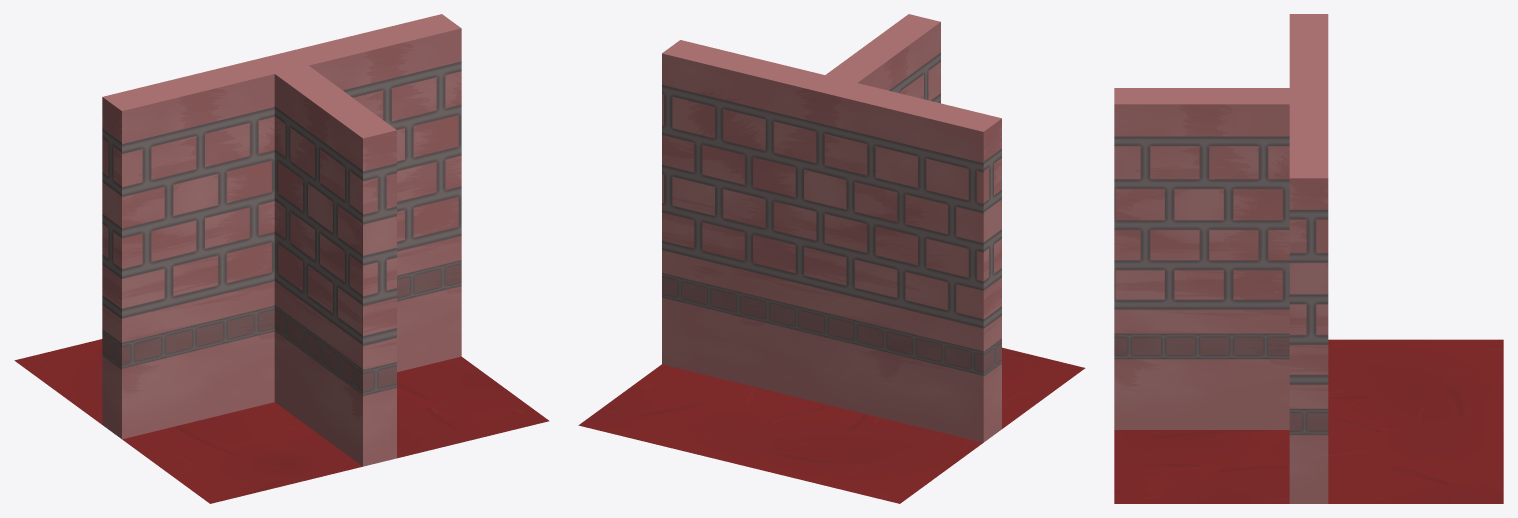
Rendered from WallThreeWay.fbx.
The picture shows the model from 3 angles, left to right: view 1: azimuth 30°, elevation 25°; view 2: azimuth 150°, elevation 25°; view 3: azimuth 270°, elevation 25°; orthographic projection. The views are drawn at different scales.
Visible parts, largest first — view 1: Wall_Tri; view 2: Wall_Tri; view 3: Wall_Tri.
Part boxes in pixels (x1,y1,x2,y2): Wall_Tri: [14, 14, 549, 503]; Wall_Tri: [578, 14, 1085, 503]; Wall_Tri: [1114, 14, 1503, 503].
Size of the model in its own units: 297 by 275 by 297.
